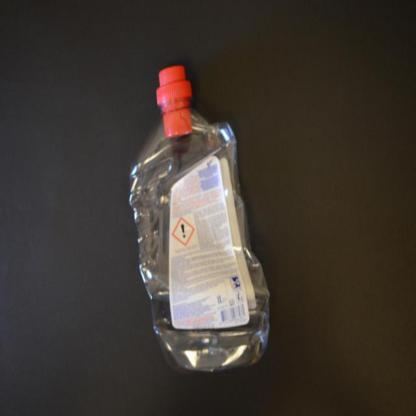Plastic Bottle: (130, 66, 270, 373)
